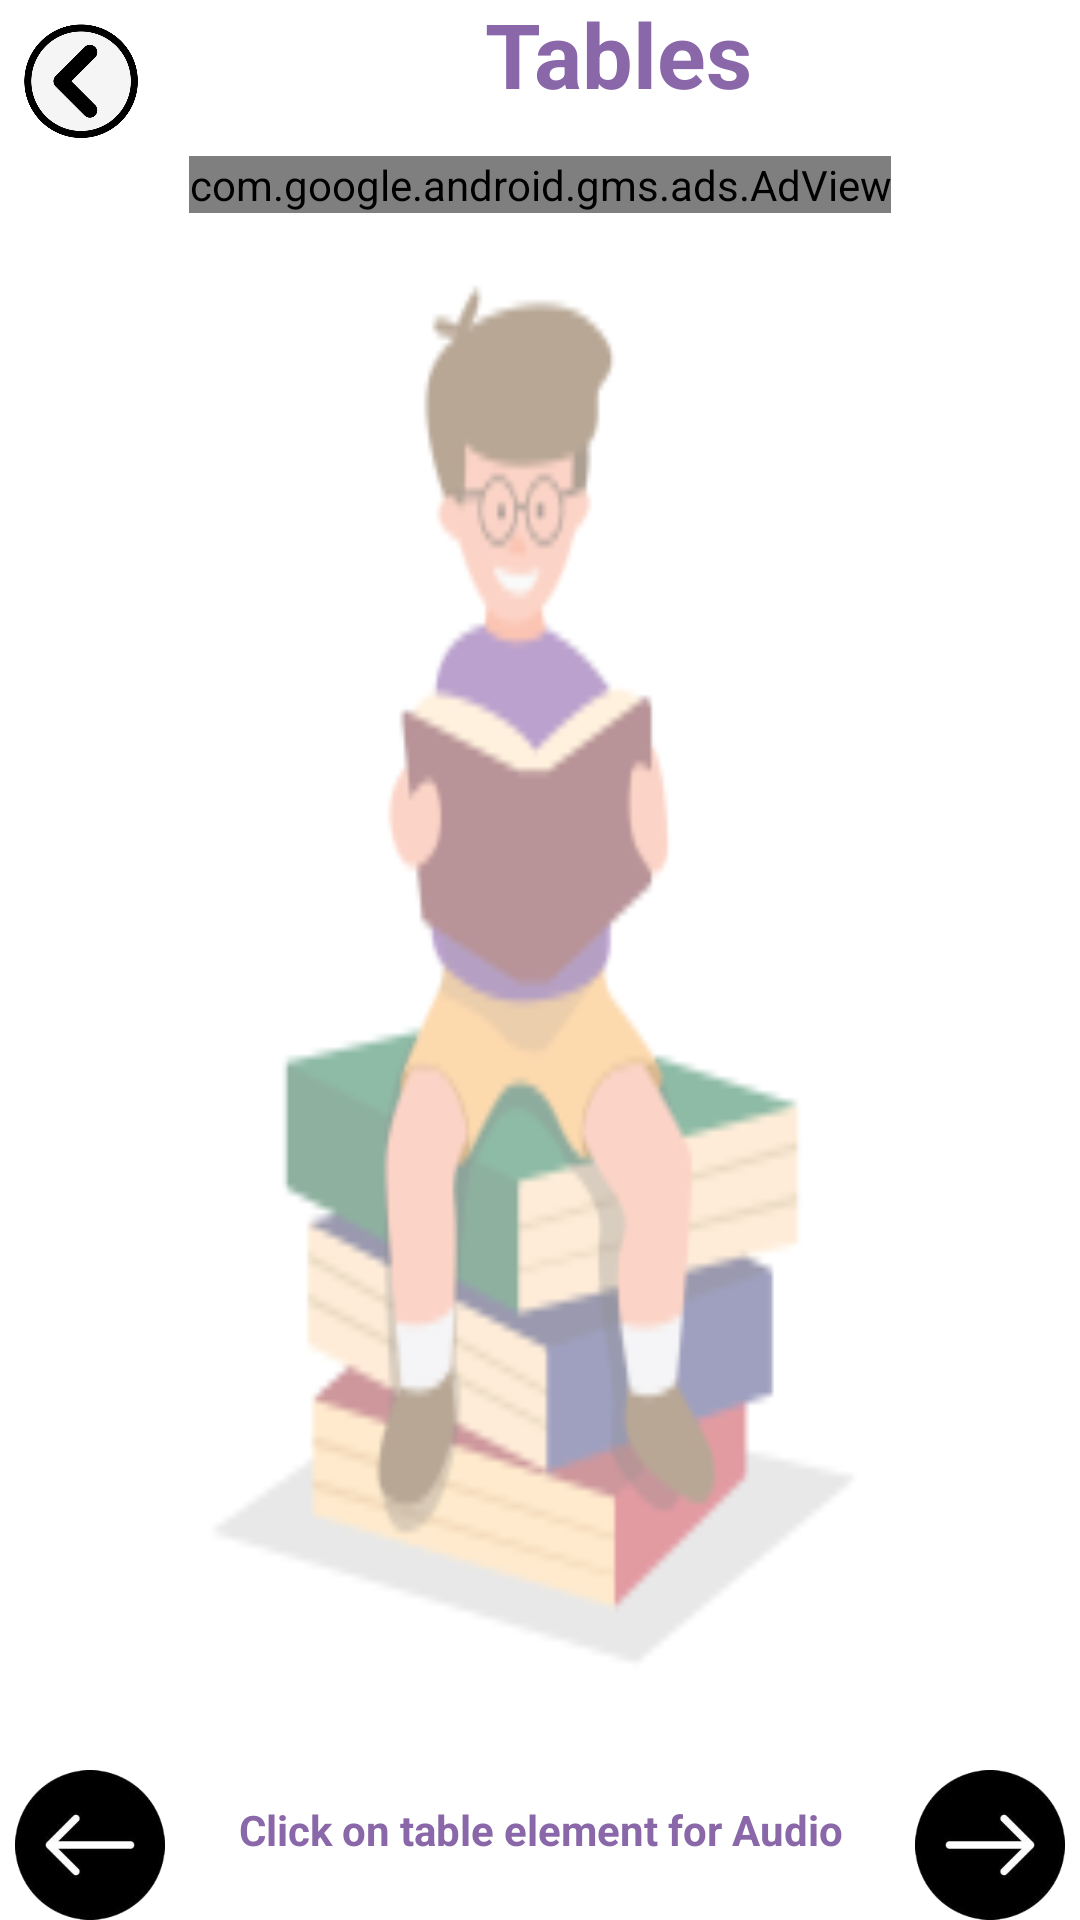

Icon bounding boxes for this 1080 × 1920 phone screenshot, format BBox(x1, y1, x2, y2):
next: BBox(915, 1770, 1065, 1920)
